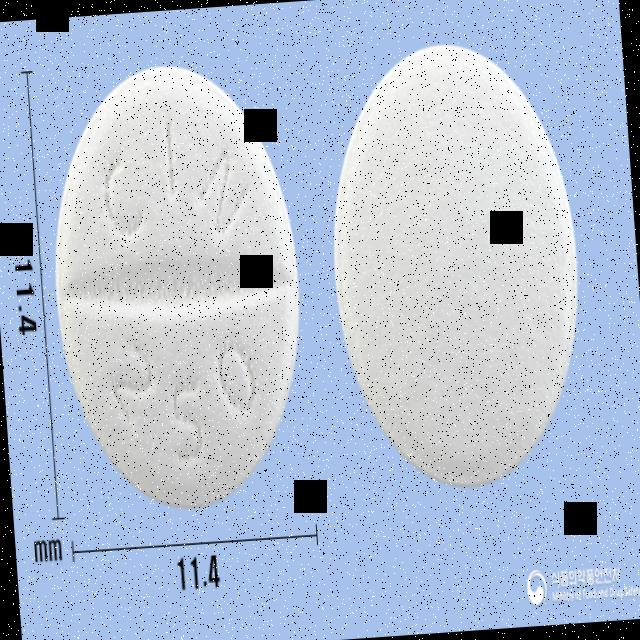CTcin: (38, 52, 317, 524)
